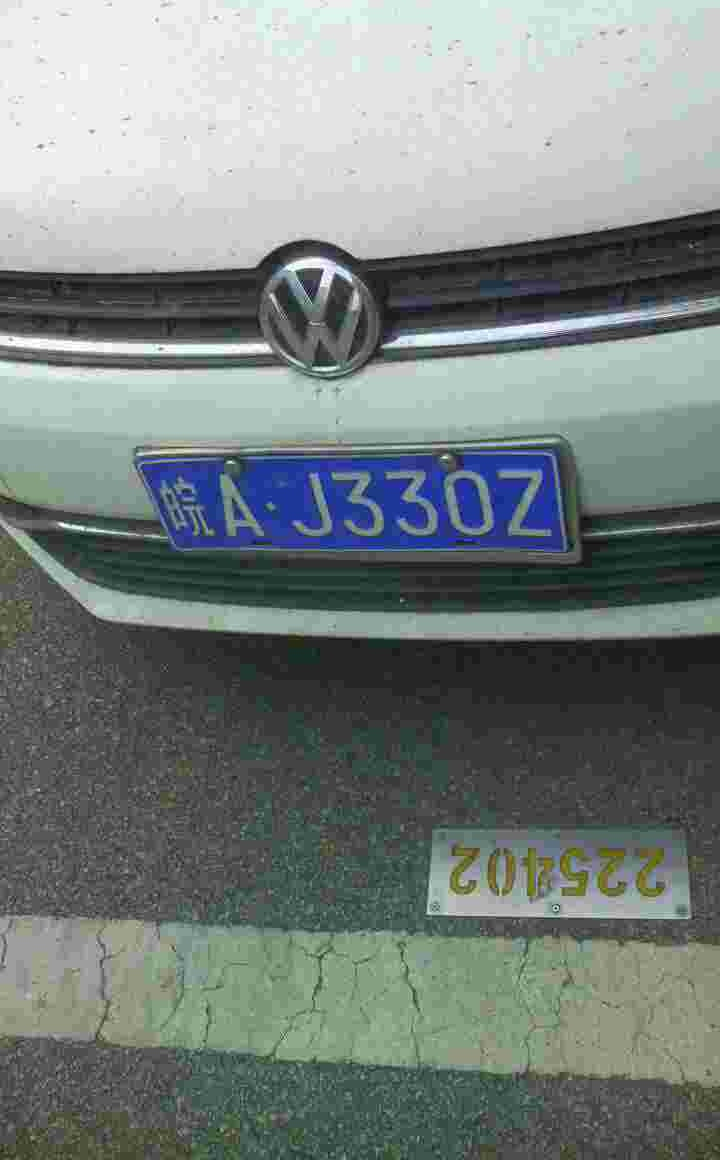license_plate: (148, 454, 562, 548)
